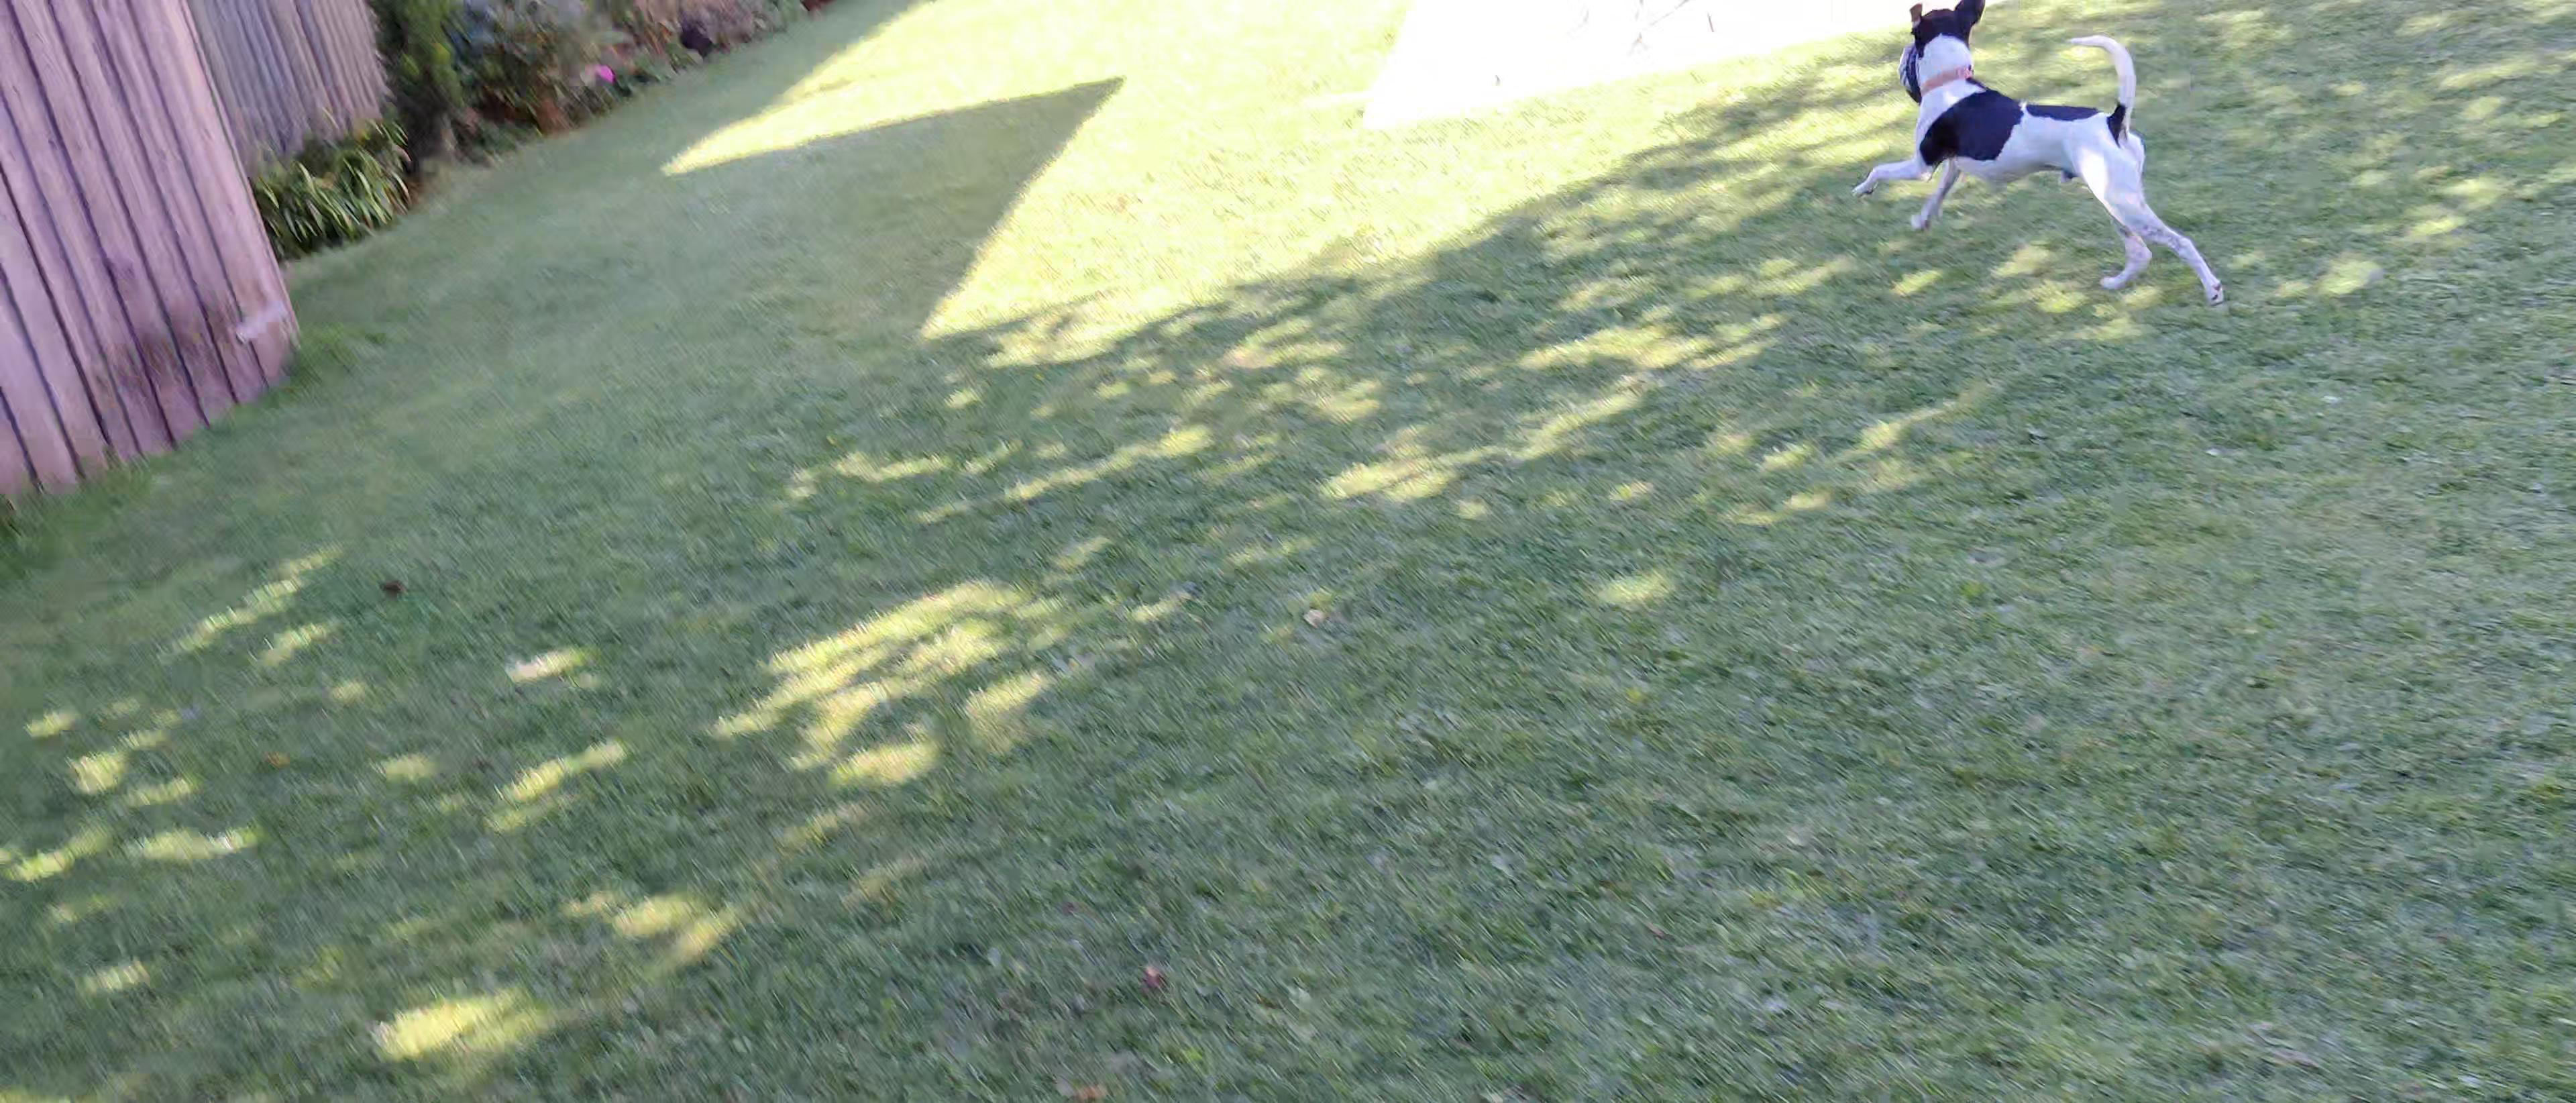Dog: (1840, 0, 2241, 317)
